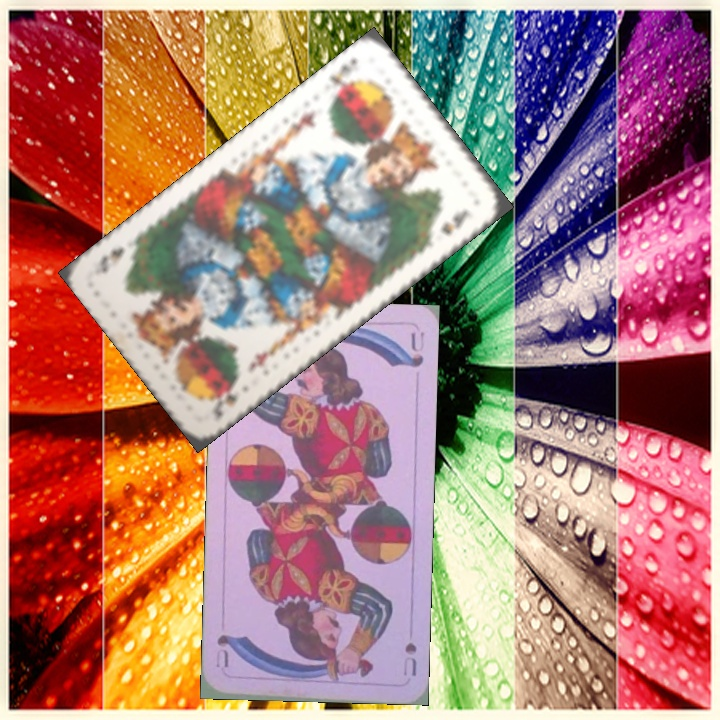SK: (207, 377, 242, 422), (325, 53, 363, 92)
SU: (400, 638, 419, 678)
